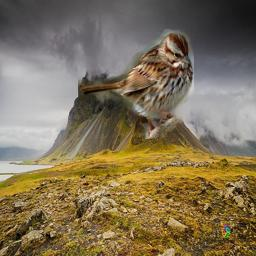Sparrow: (78, 29, 194, 139)
